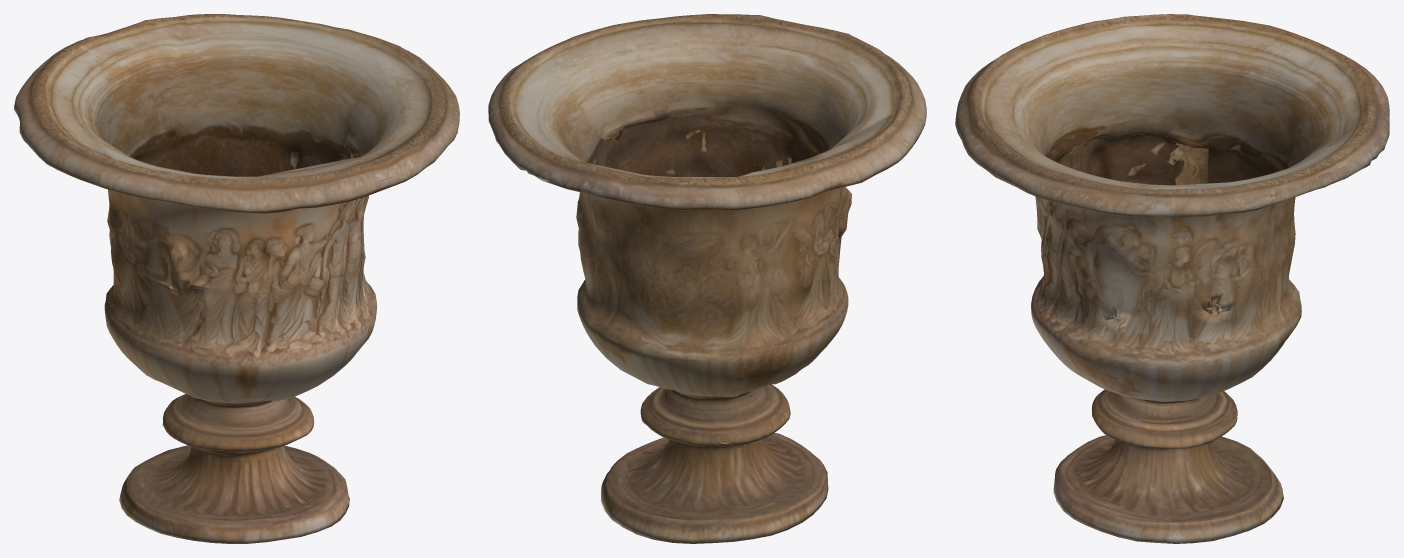
Rendered from ancientURN.glb.
3 views of the same model, side by side, from view 1: azimuth 30°, elevation 25°; view 2: azimuth 150°, elevation 25°; view 3: azimuth 270°, elevation 25° (orthographic).
Parts seen in each view (by area): view 1: Mesh1; view 2: Mesh1; view 3: Mesh1.
Part boxes in pixels (left/top/right/bottom): Mesh1: left=14, top=14, right=459, bottom=543; Mesh1: left=488, top=14, right=926, bottom=543; Mesh1: left=955, top=14, right=1389, bottom=543.
Size of the model in its own units: 1.96 by 1.99 by 1.94.
Materials: 1 (1 with a texture image).
